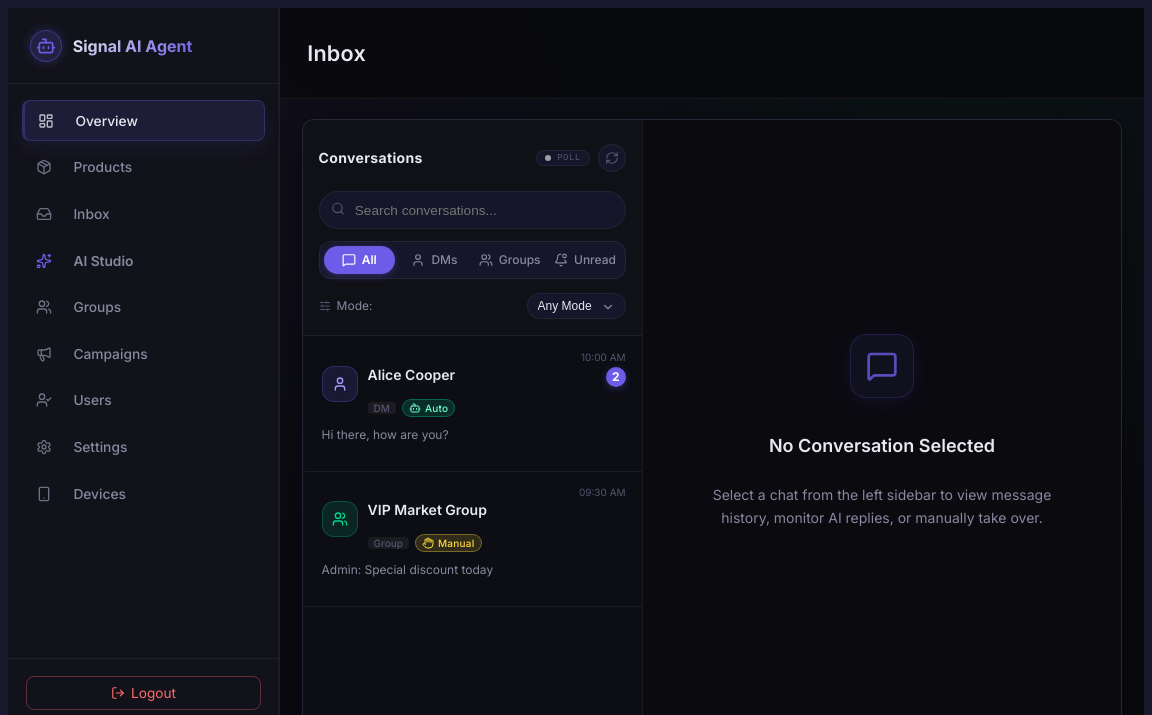
InboxPage Component › displays outbound failure and allows explicit retry
Click the text "Alice Cooper" at (412, 375), box [368,365,455,385]
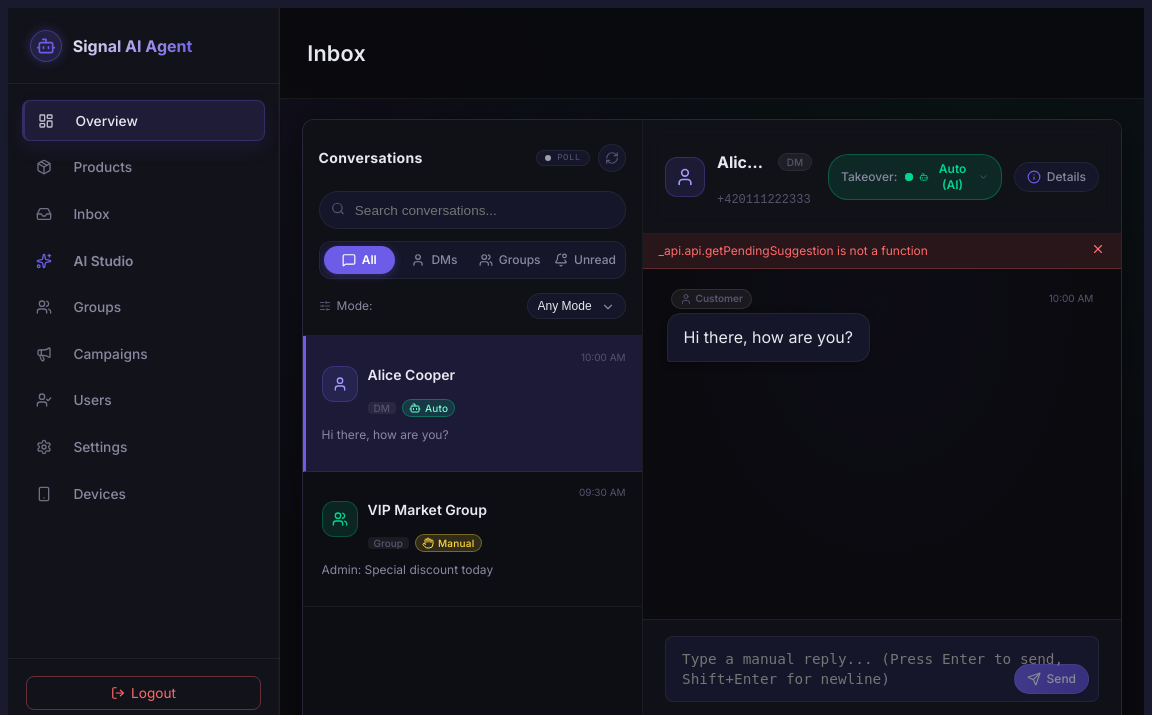
Check: the text box with placeholder "Type a manual reply" is shown
Replace the text in the text box with placeholder "Type a manual reply" with "Important notice" at (882, 669), box [665,636,1099,702]
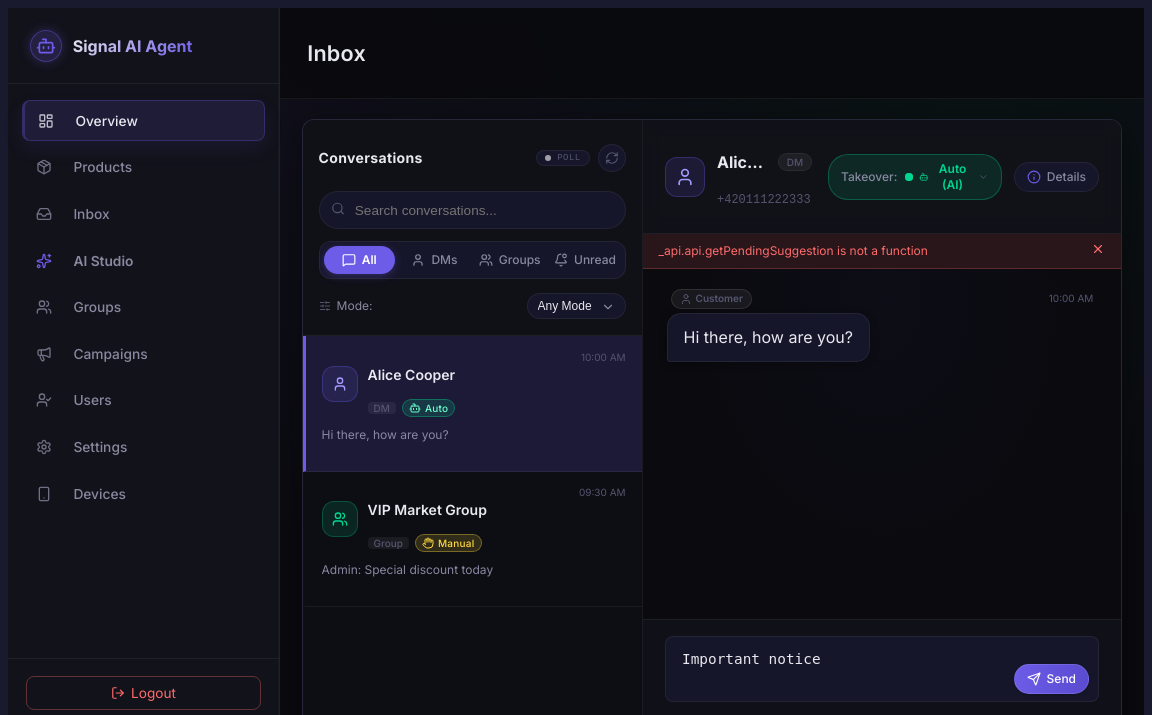
Click the button "Send" at (1051, 679), box [1014,664,1089,694]
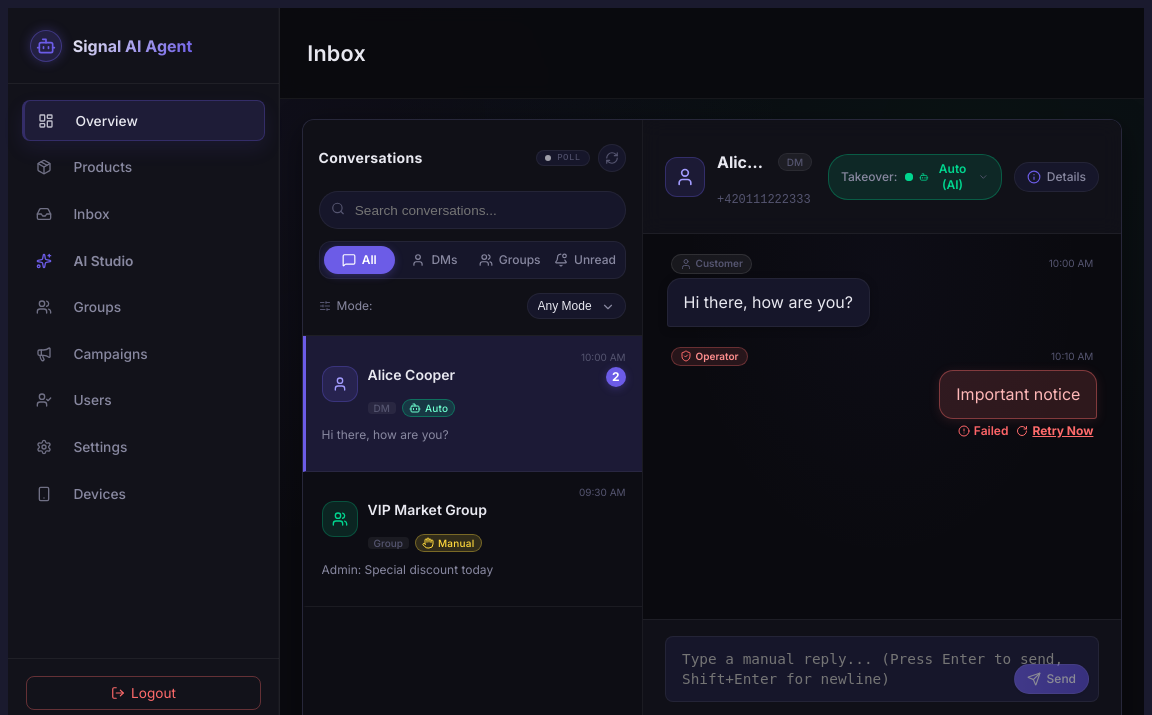
Check: the text "Failed" is shown, box [974,423,1008,439]
Check: the text "Retry Now" is shown, box [1032,423,1093,439]
# Click retry
Click the button "Retry Now" at (1055, 431), box [1016,423,1093,439]
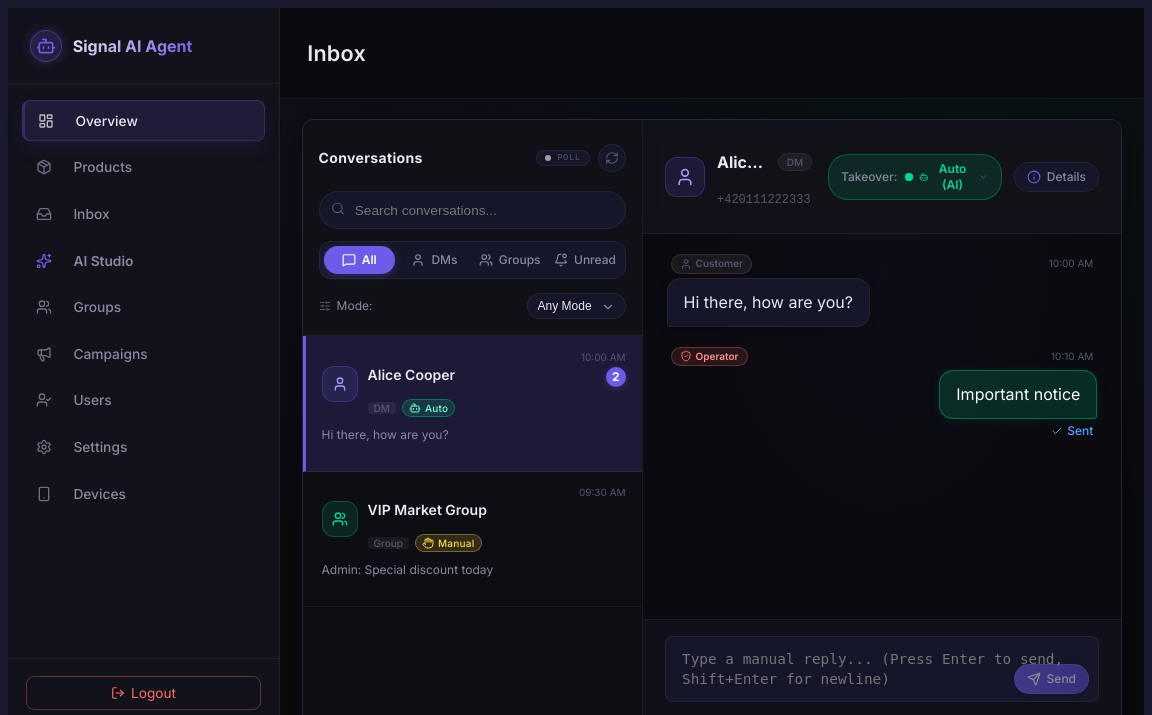
Check: the text "Sent" is shown, box [1067,423,1093,439]
